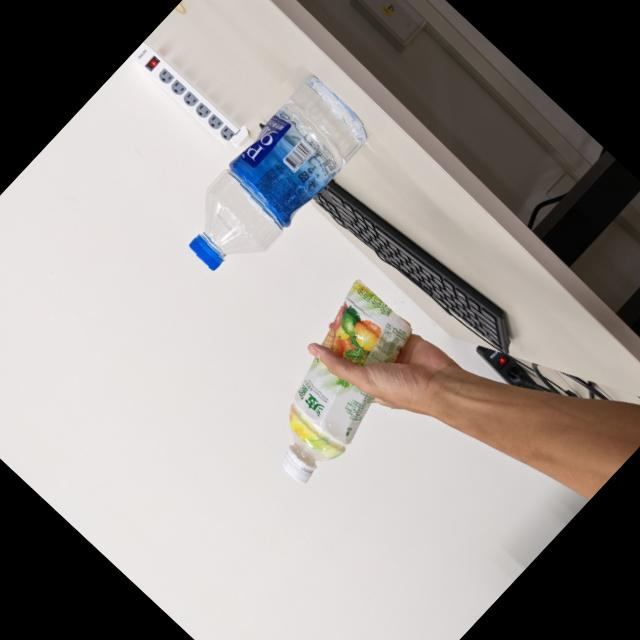plastic bottle: (146, 62, 384, 304), (212, 268, 445, 504)
